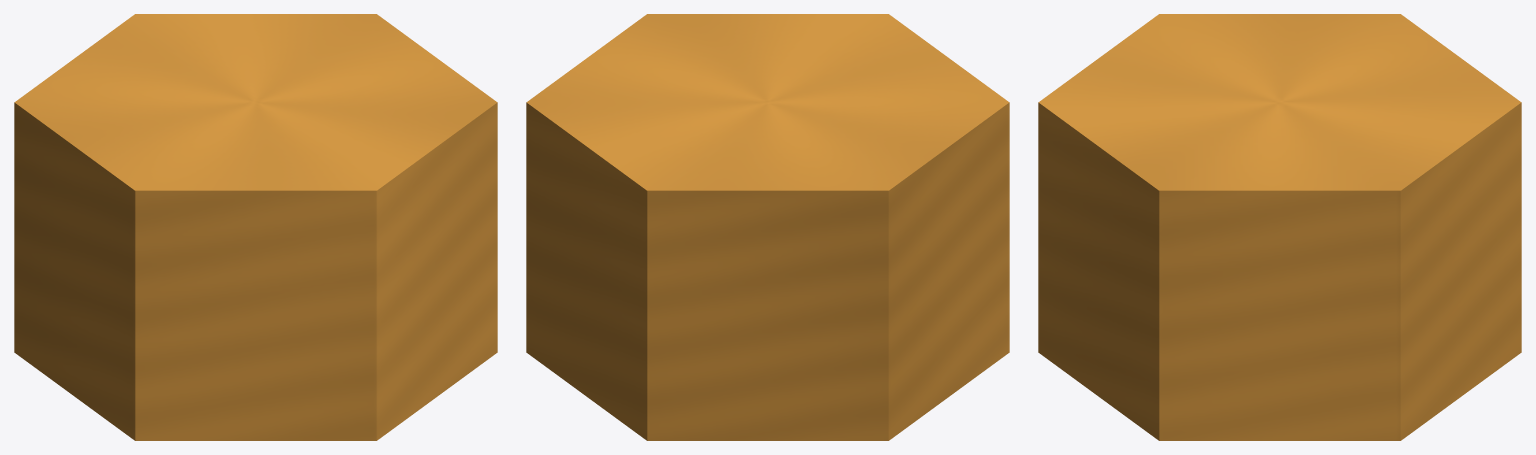
Rendered from tier-t5.glb.
3 views of the same model, side by side, from view 1: azimuth 30°, elevation 25°; view 2: azimuth 150°, elevation 25°; view 3: azimuth 270°, elevation 25° (orthographic).
Visible parts, largest first — view 1: gem-t5-court-sealed; view 2: gem-t5-court-sealed; view 3: gem-t5-court-sealed.
Part boxes in pixels (x1=…): gem-t5-court-sealed: x1=14, y1=14, x2=497, y2=440; gem-t5-court-sealed: x1=526, y1=14, x2=1009, y2=440; gem-t5-court-sealed: x1=1038, y1=14, x2=1521, y2=440.
Bounding box in the file's own units: 0.2425 × 0.16 × 0.28.
1 material, 1 textured.
